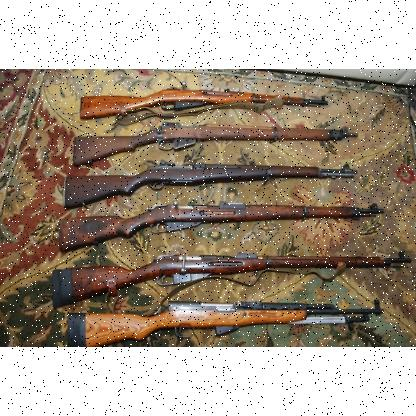gun: (52, 80, 411, 345)
